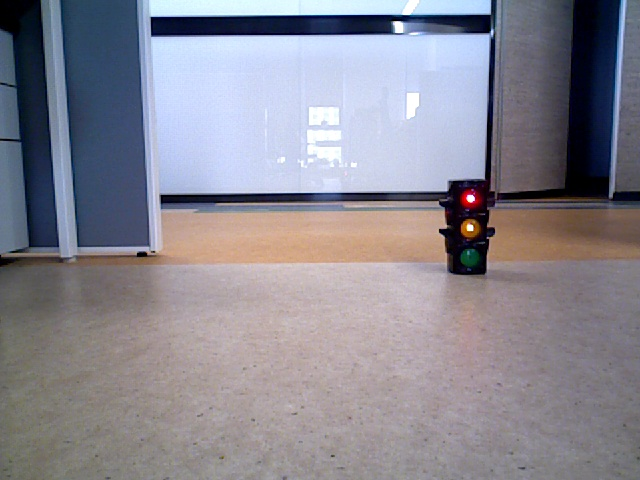red: (447, 180, 485, 273)
